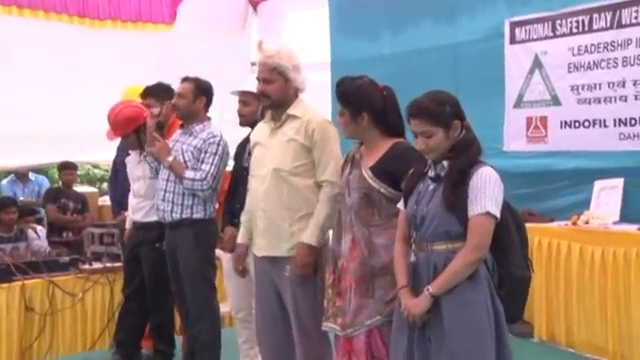helmet: (102, 98, 150, 144), (228, 64, 263, 100)
helmet_off: (405, 86, 475, 173), (332, 73, 401, 158), (254, 50, 310, 113), (167, 75, 213, 128), (136, 84, 175, 134), (1, 197, 22, 232), (52, 162, 75, 192), (7, 167, 34, 187)
helmet_on: (100, 98, 157, 159), (230, 63, 264, 128)
person: (394, 80, 534, 360), (237, 45, 341, 360), (331, 68, 421, 360), (150, 64, 231, 360), (102, 98, 172, 359), (221, 60, 266, 359), (39, 164, 93, 250), (0, 193, 49, 267), (0, 165, 51, 204)
